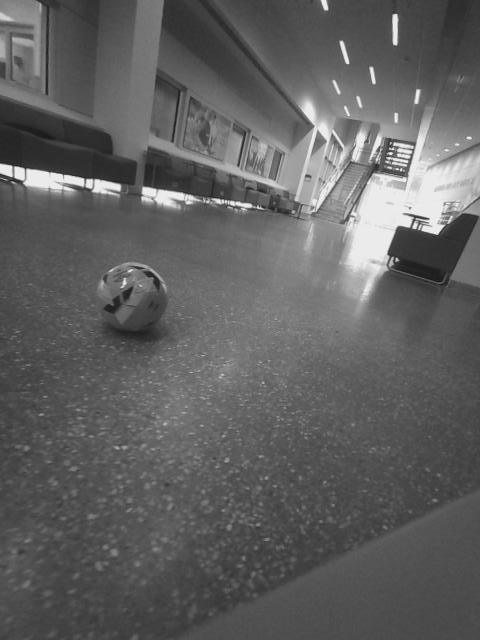ball: (90, 259, 178, 336)
